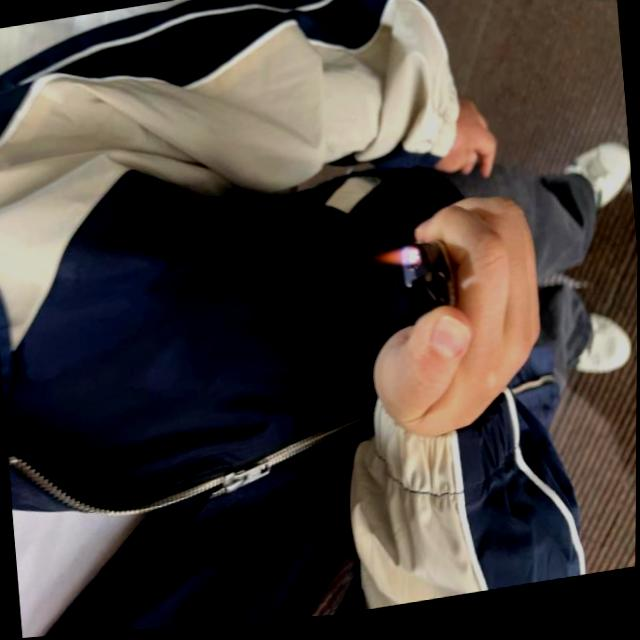helmet: (372, 250, 421, 278)
